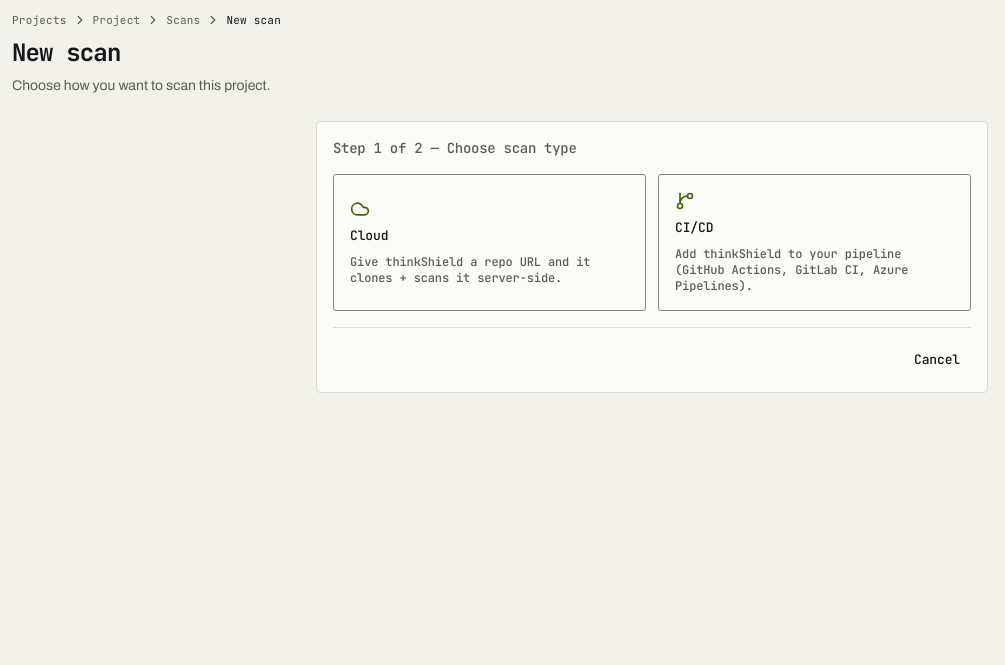
New scan: the Already-scanned notice belongs to the selection it answered › switching to URL mode clears it
Step 1. Click the button "Cloud" → (369,236), box [333,174,646,311]
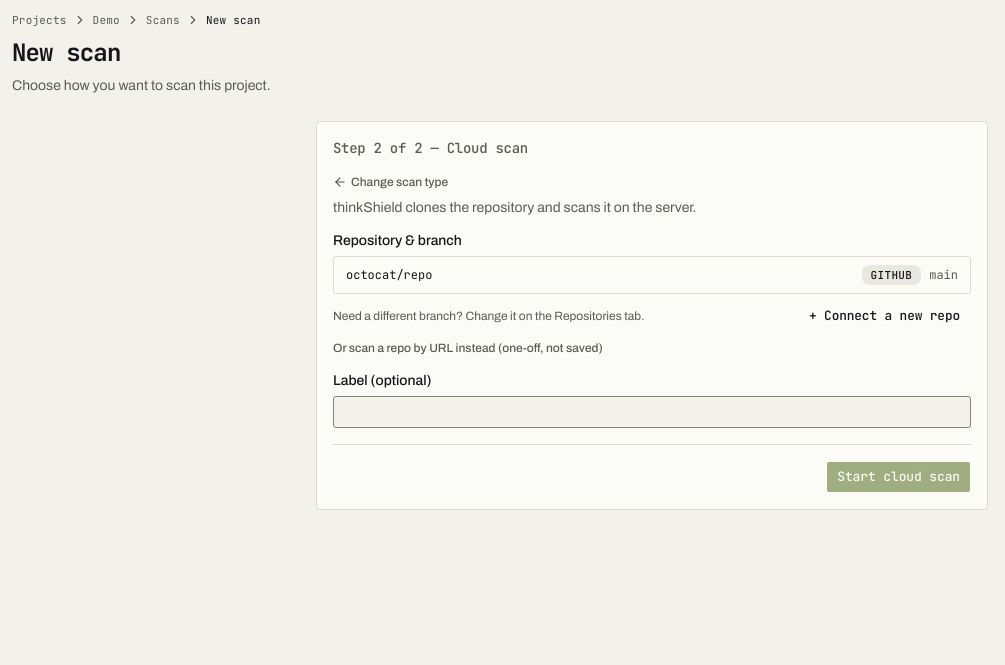
Step 2. Click the button "octocat/repo GitHub main" → (389,275), box [333,256,971,294]
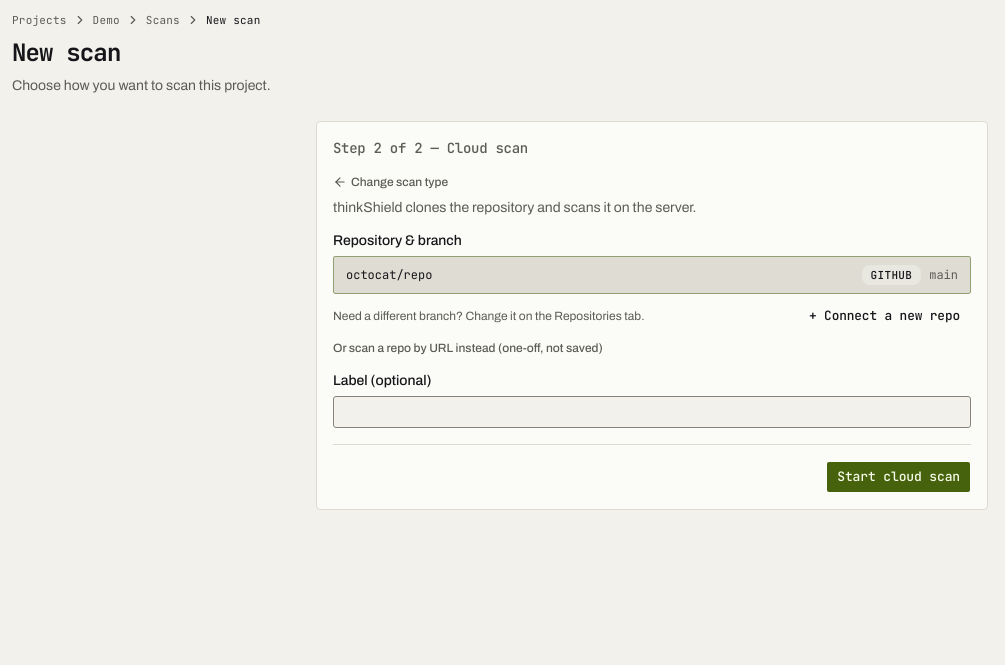
Step 3. Click the button "Start cloud scan" → (899,477), box [826,461,971,493]
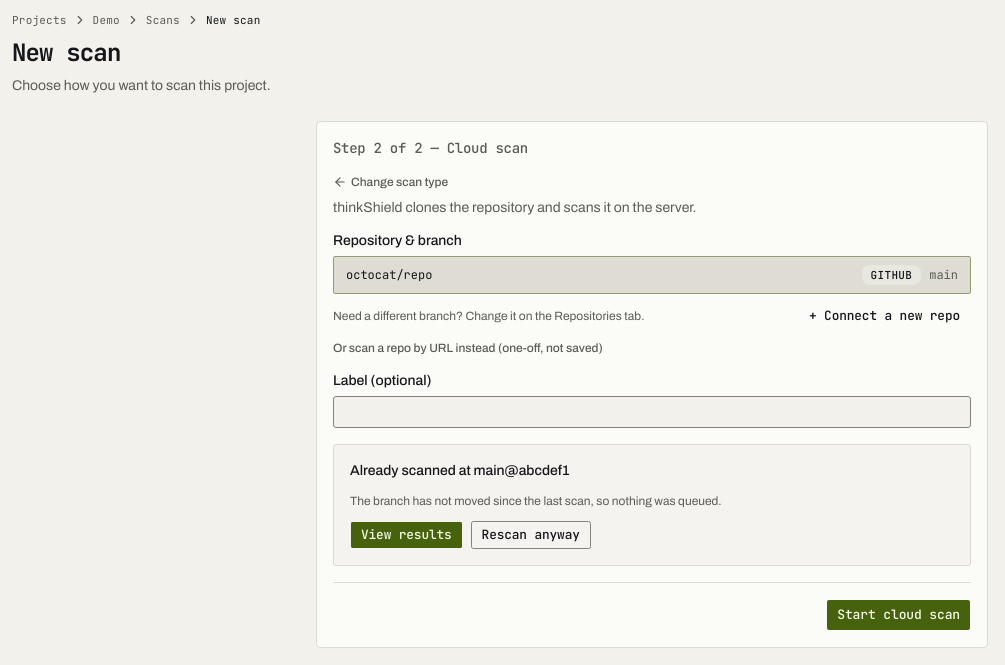
Expected: the text "Already scanned at main@abcdef1" is shown, [350,463,570,478]
Step 4. Click the button "Or scan a repo by URL instead (one-off, not saved)" → (468,348), box [333,340,603,356]
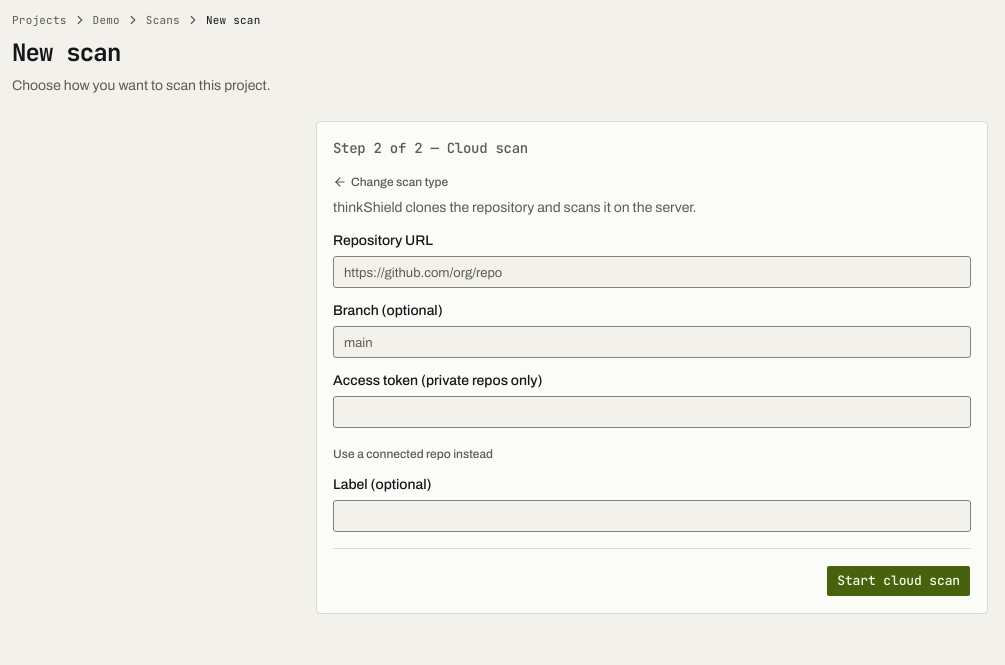
Expected: the text "Already scanned" is gone
